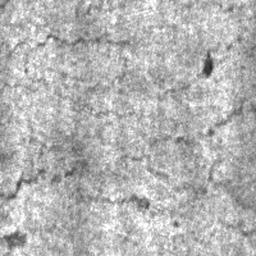Crazing: (4, 159, 256, 238), (120, 97, 256, 210), (0, 67, 135, 120), (6, 32, 131, 68), (197, 34, 244, 78), (157, 82, 191, 102), (3, 231, 27, 250), (0, 150, 17, 168), (216, 2, 234, 13)
